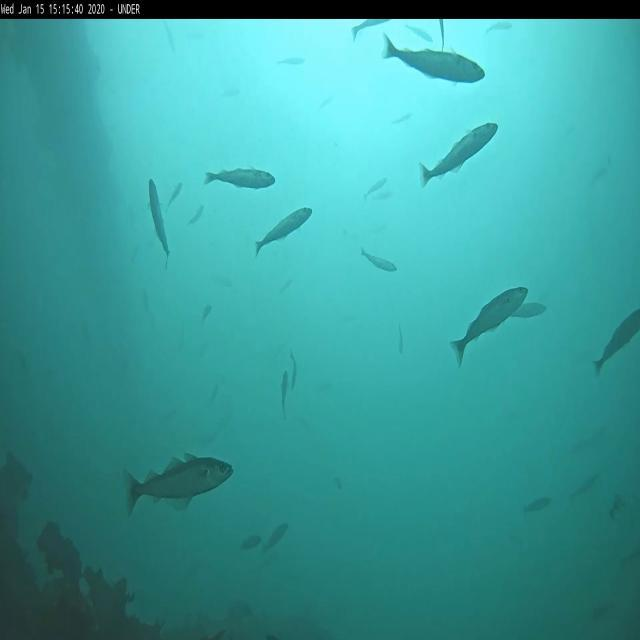fish: (123, 449, 237, 518), (451, 285, 529, 369), (380, 31, 485, 86), (419, 122, 497, 187), (593, 308, 639, 379), (253, 207, 312, 255), (204, 169, 277, 189), (360, 247, 399, 273), (352, 20, 390, 42), (260, 521, 286, 553), (572, 475, 600, 502), (591, 155, 612, 181), (514, 302, 545, 319), (525, 494, 553, 512), (162, 22, 178, 52), (280, 368, 288, 424), (404, 26, 434, 40), (363, 180, 386, 198), (168, 180, 182, 206), (486, 21, 512, 34), (290, 348, 298, 390), (240, 536, 260, 550), (190, 205, 203, 225), (200, 304, 212, 325), (390, 113, 412, 124), (278, 58, 306, 66), (439, 20, 446, 50), (398, 323, 404, 356)
